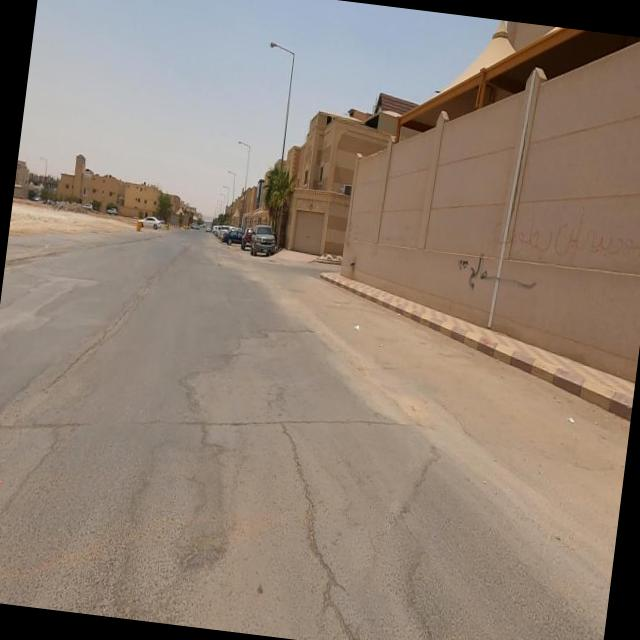debris: (438, 142, 640, 308), (396, 203, 581, 341)
